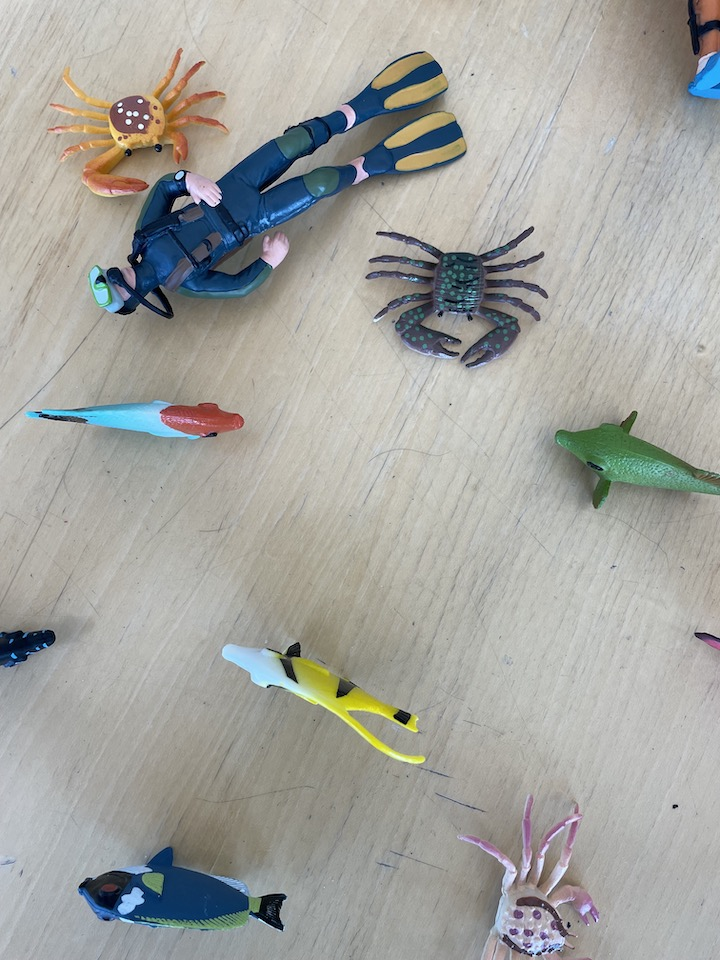crab: (45, 48, 233, 201), (366, 226, 552, 369), (456, 793, 604, 960)
danger: (216, 639, 430, 770)
diver: (85, 49, 471, 321), (683, 1, 720, 102)
fish: (78, 846, 289, 937), (554, 411, 720, 511), (28, 396, 246, 444), (1, 627, 60, 674), (692, 625, 720, 654)
